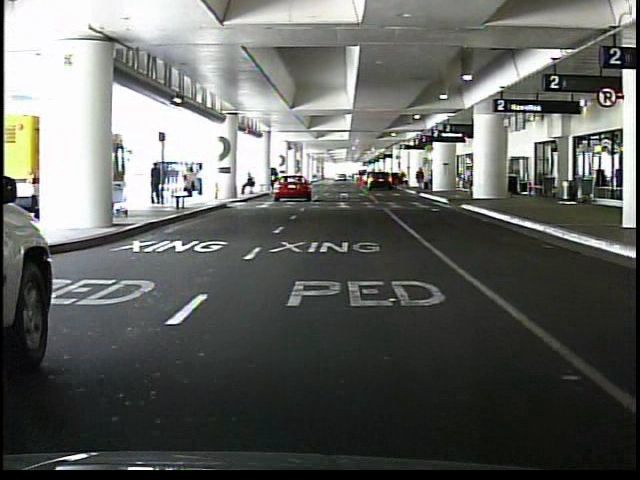person: (151, 163, 165, 206), (464, 162, 475, 200), (239, 172, 256, 195), (416, 166, 426, 192)
